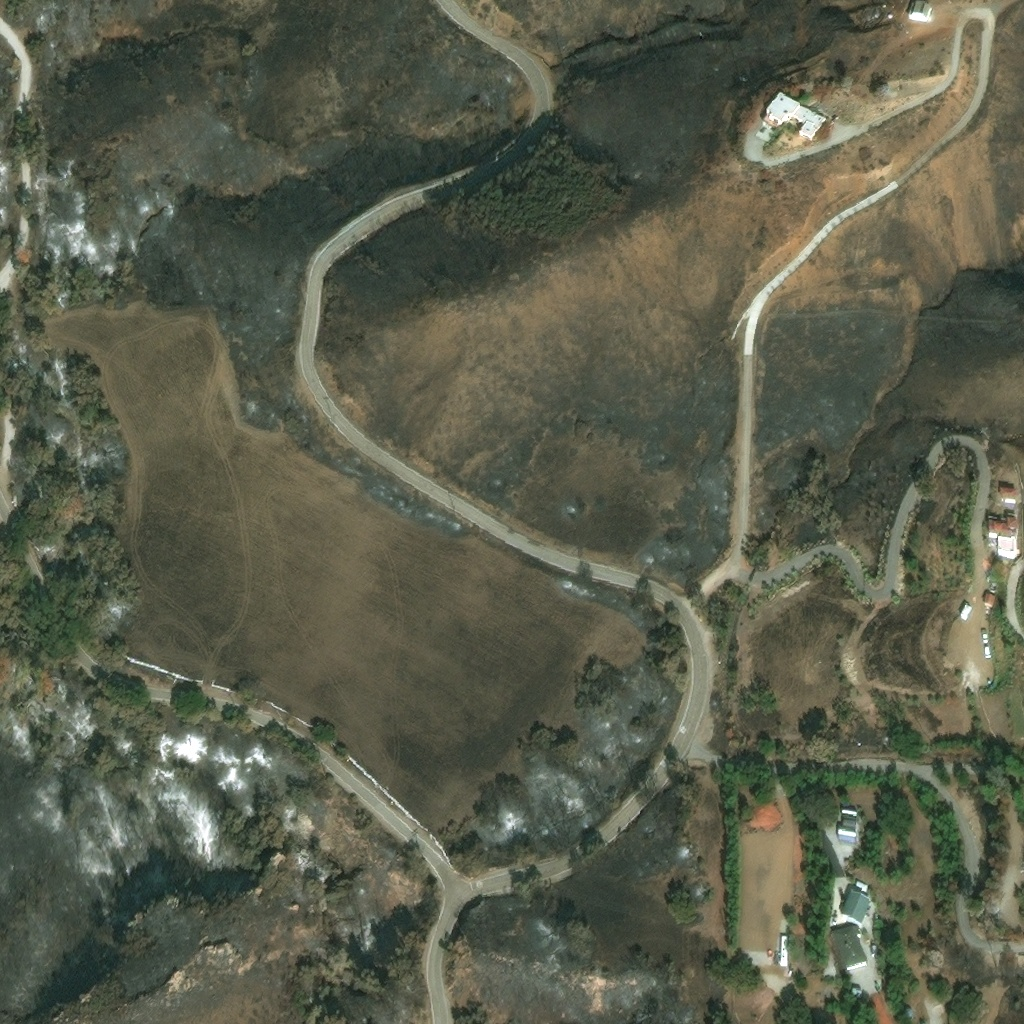0 no-damage: (760, 94, 824, 145), (829, 926, 867, 969), (838, 885, 874, 923), (836, 808, 856, 837), (988, 514, 1018, 530), (997, 535, 1018, 556), (907, 3, 931, 20), (780, 935, 788, 966), (1000, 484, 1015, 500), (959, 603, 972, 618), (984, 590, 996, 605)
